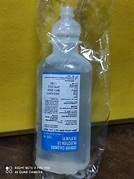Iv_Bottle: (35, 7, 91, 174)
